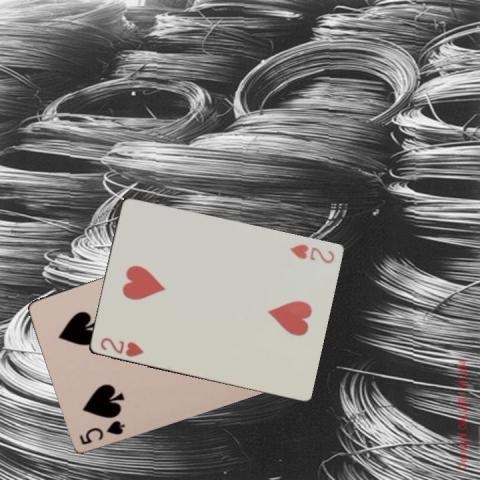2h: (96, 334, 144, 359), (287, 241, 335, 266)
5s: (76, 417, 126, 446)
